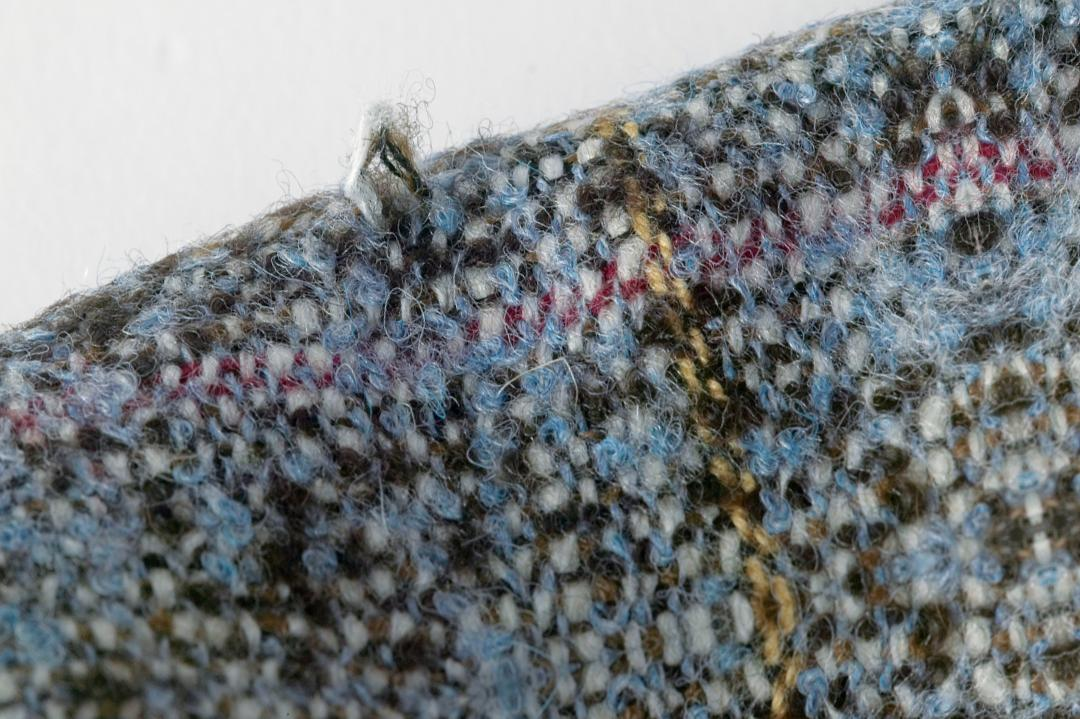snag: (329, 99, 460, 251)
